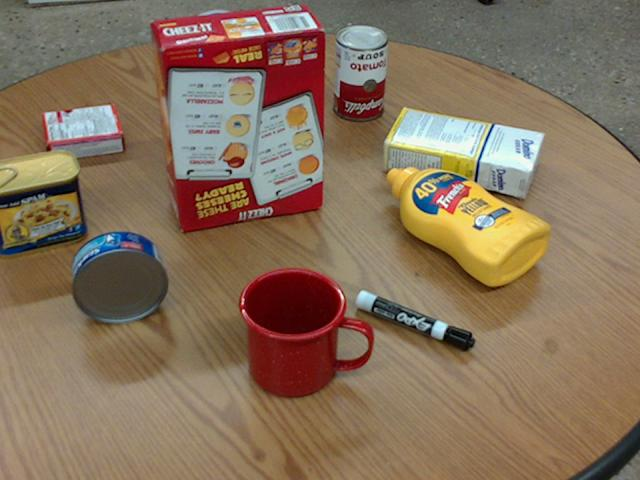cracker_box: (149, 7, 325, 230)
gelatin_box: (41, 104, 125, 161)
large_marker: (354, 290, 475, 350)
master_chef_can: (176, 10, 287, 131)
mug: (238, 266, 372, 398)
mustard_bottle: (385, 166, 549, 285)
potted_meat_can: (0, 150, 86, 259)
sugar_box: (381, 109, 544, 194)
tomato_soup_can: (330, 24, 385, 119)
tuna_fish_can: (71, 230, 167, 323)
